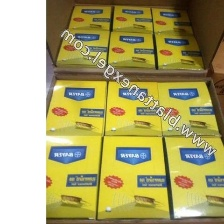book: (22, 132, 107, 222), (92, 132, 176, 223), (162, 135, 223, 223), (155, 78, 220, 142), (45, 77, 110, 140), (101, 78, 165, 141), (53, 26, 112, 72), (155, 31, 206, 73), (107, 31, 159, 71), (147, 6, 199, 42), (105, 5, 158, 40), (65, 3, 116, 39)
